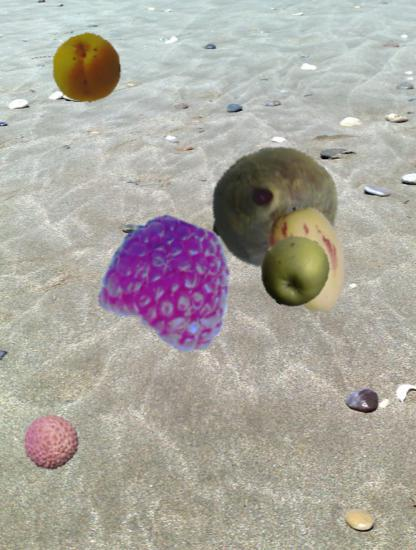Apple: (258, 234, 331, 307)
Beetroot: (206, 140, 339, 273)
Lychee: (23, 414, 80, 471)
Peach: (51, 32, 123, 104)
Pepino: (254, 206, 365, 317)
Raspberry: (105, 216, 237, 348)
